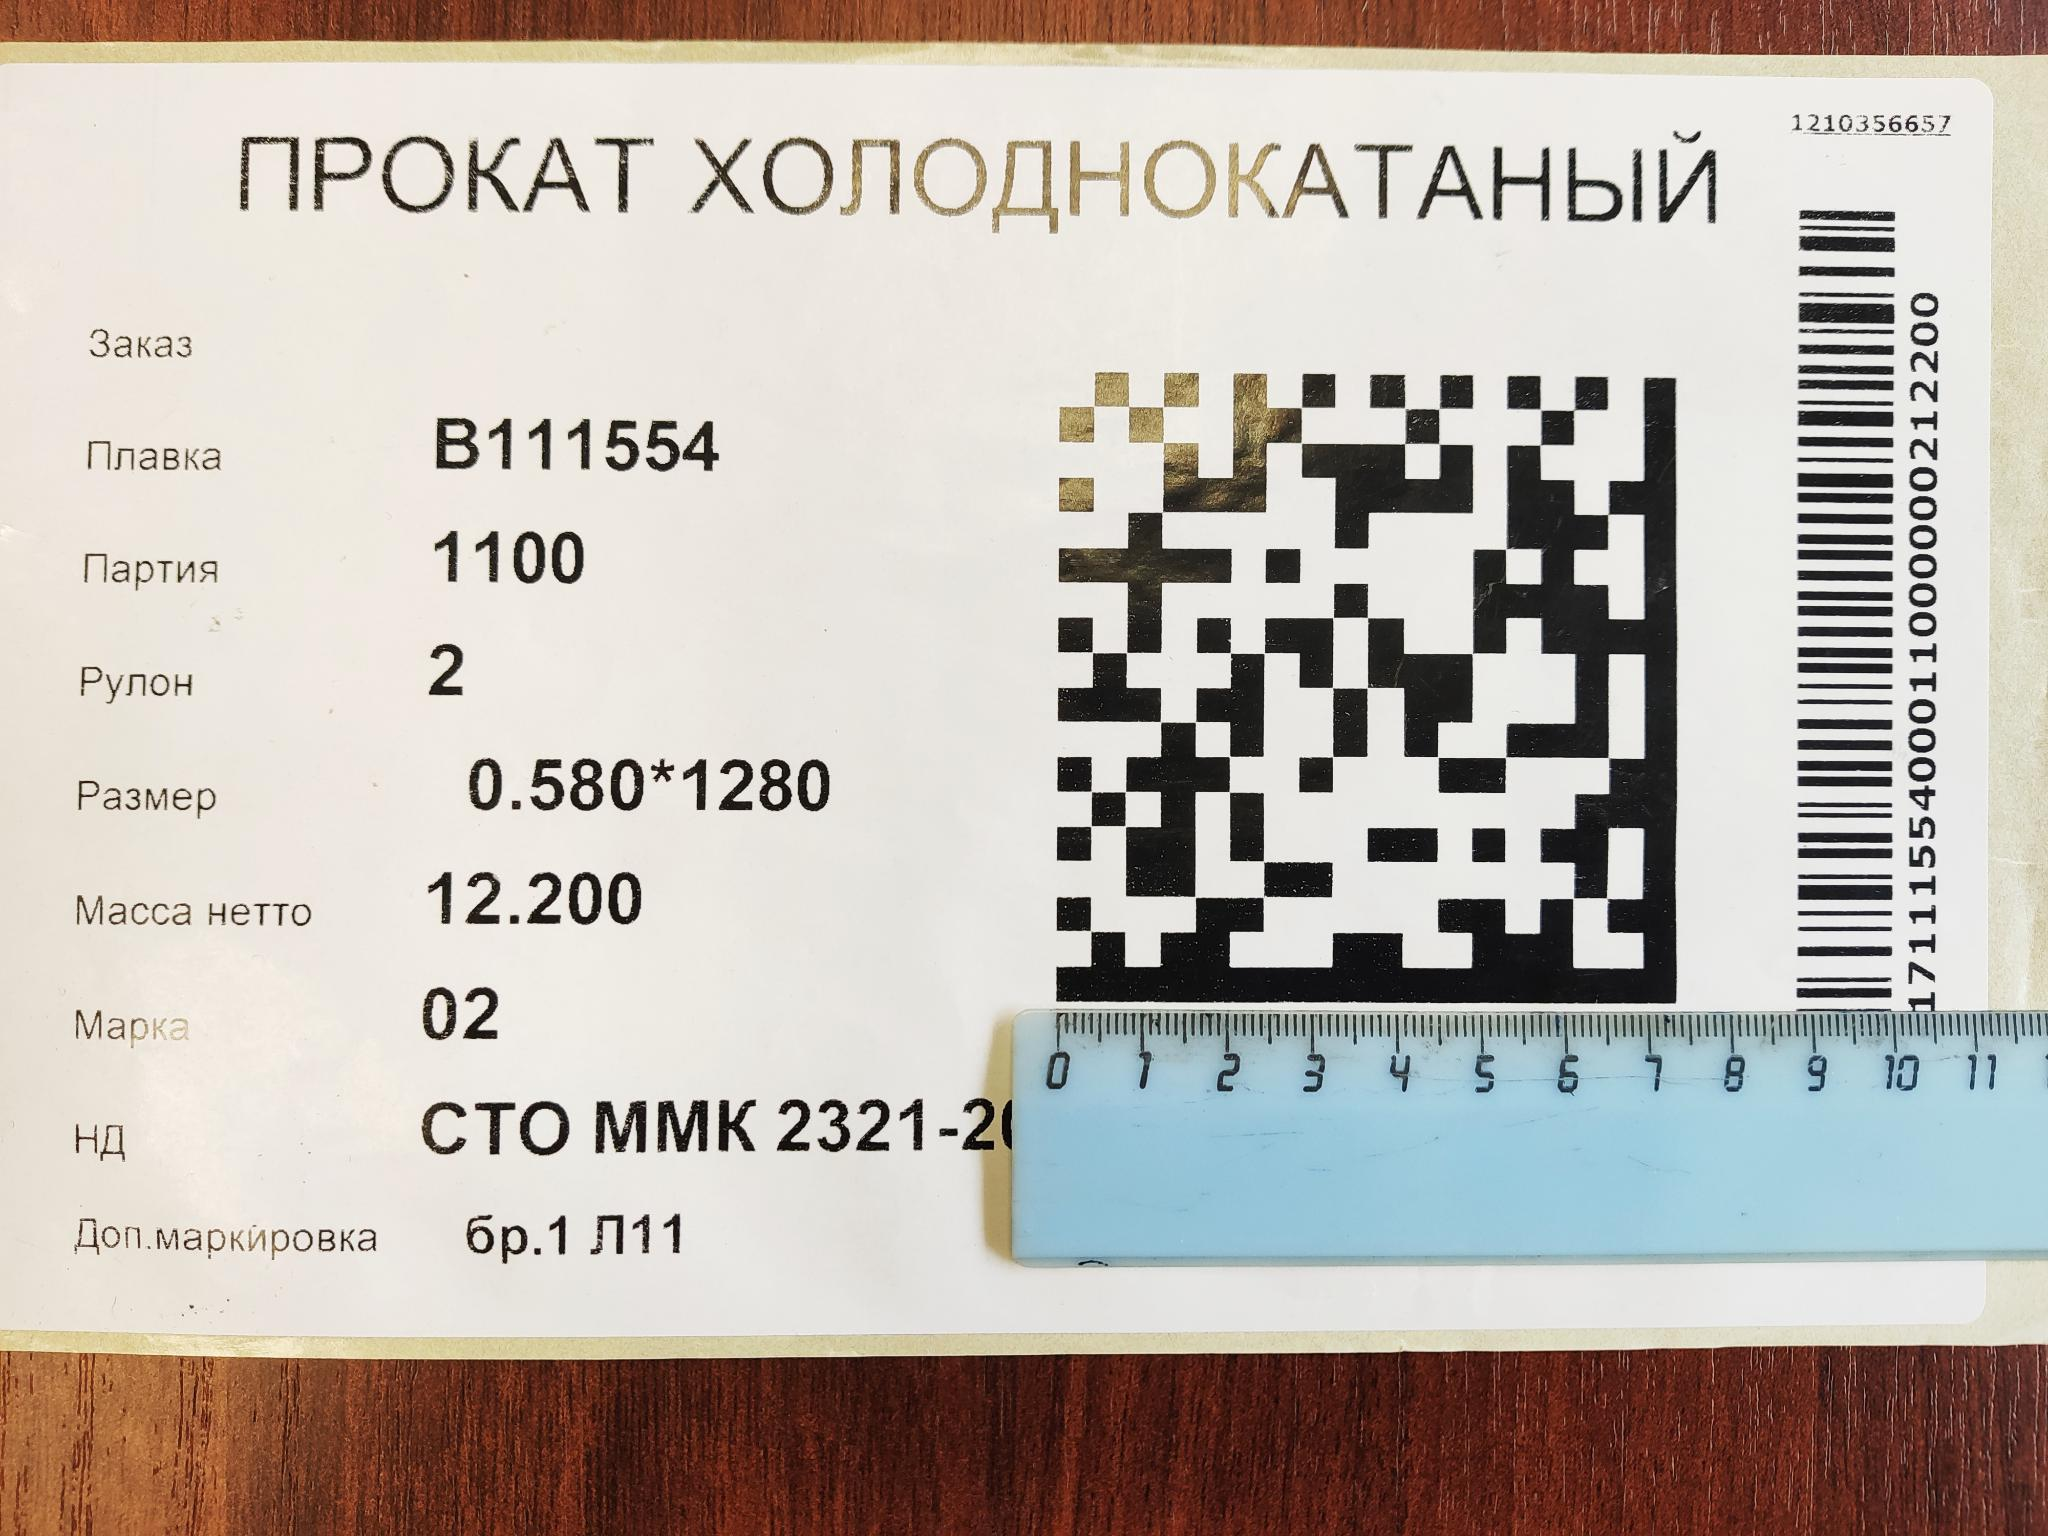data matrix: (1022, 329, 1696, 1013)
